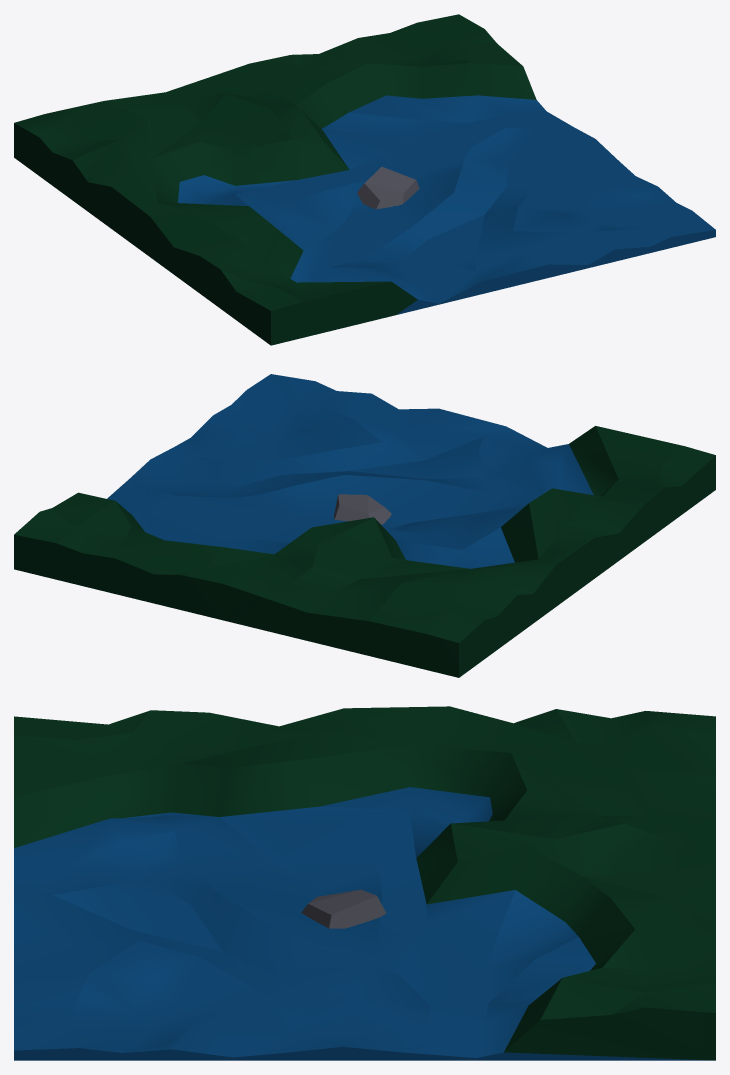
File: Water_Corner_Internal_LU.fbx
The picture shows the model from 3 angles, top to bottom: view 1: azimuth 30°, elevation 25°; view 2: azimuth 150°, elevation 25°; view 3: azimuth 270°, elevation 25°; orthographic projection. The views are drawn at different scales.
Visible parts, largest first — view 1: Water_Corner_Internal_LU; view 2: Water_Corner_Internal_LU; view 3: Water_Corner_Internal_LU.
Boxes of the visible parts, bbox=[...] form: Water_Corner_Internal_LU: bbox=[14, 14, 715, 345]; Water_Corner_Internal_LU: bbox=[14, 374, 715, 677]; Water_Corner_Internal_LU: bbox=[14, 706, 715, 1060].
Bounding box in the file's own units: 147 × 14.69 × 147.
